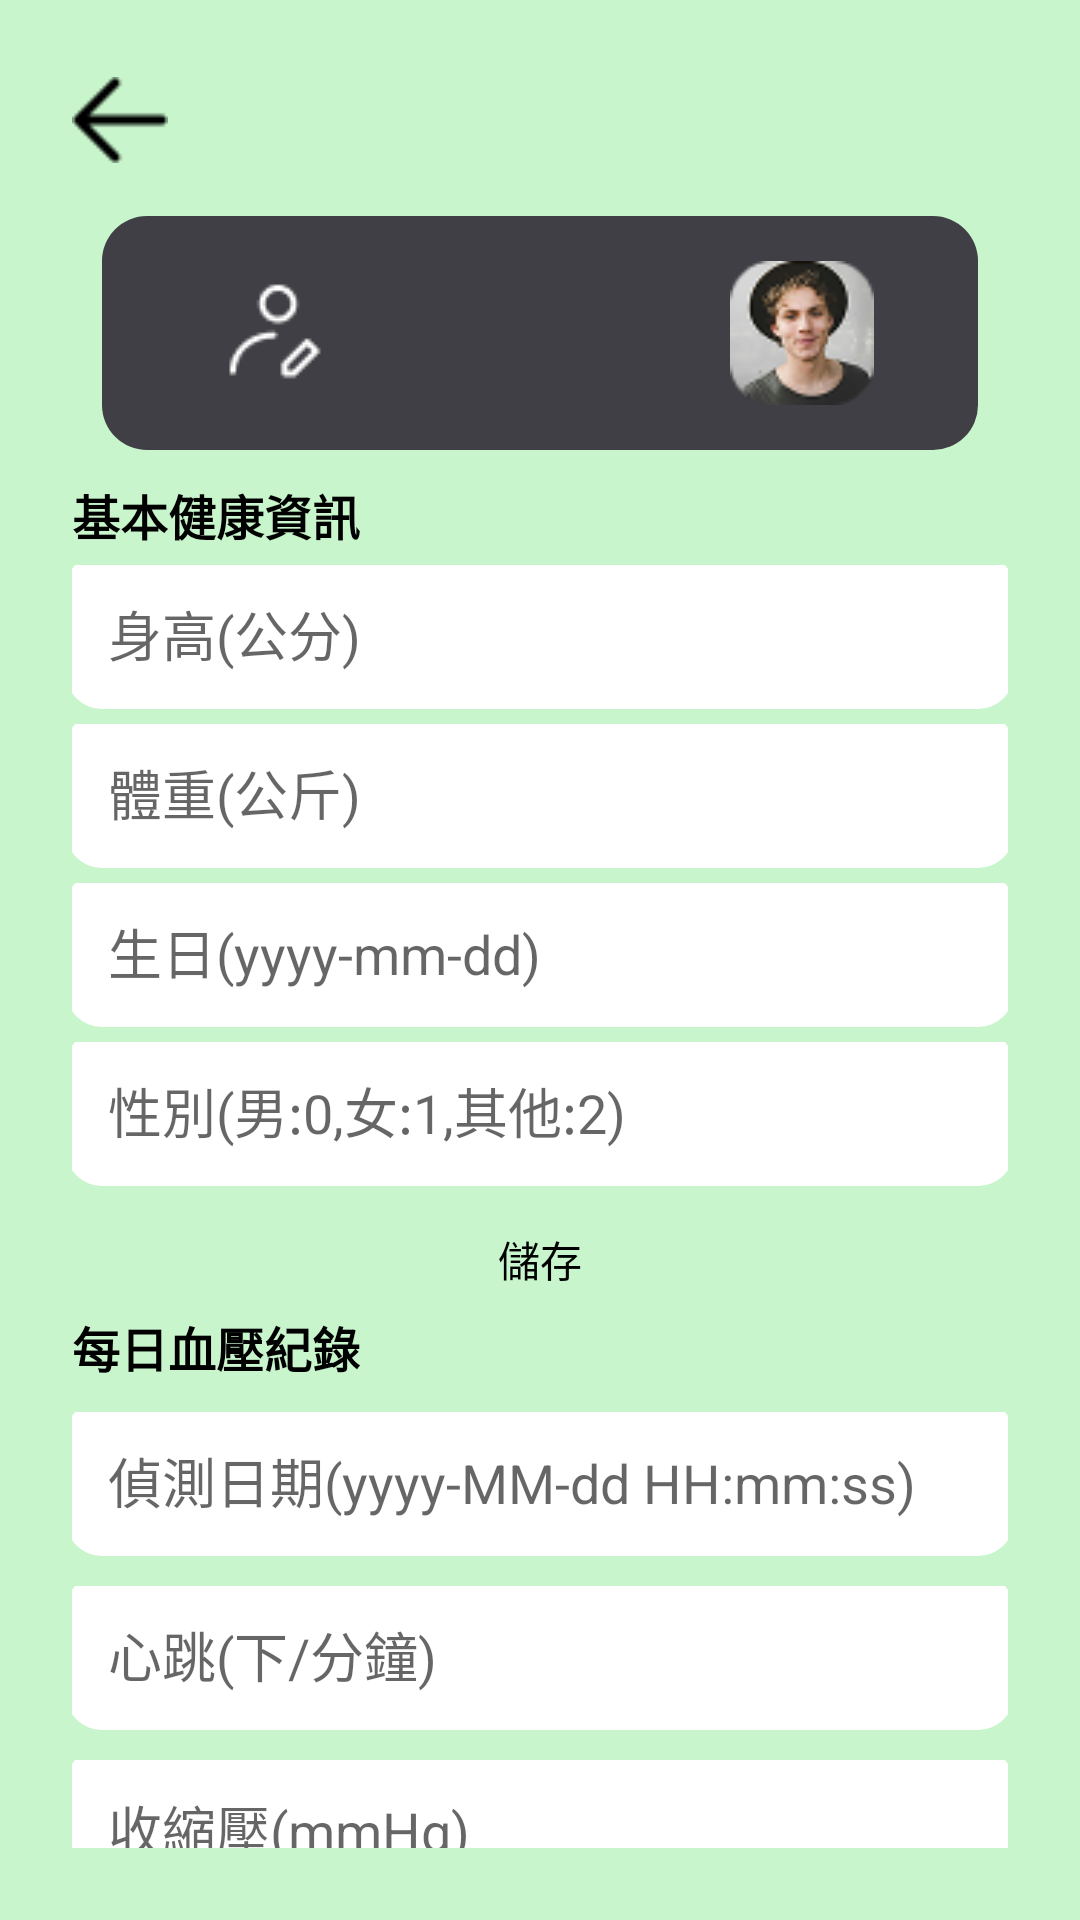

Screen size 1080 x 1920. Icon name, then its box in pixels as [x1,y1,x2,y2]:
user photo: [730,261,874,405]
返回: [72,77,168,163]
